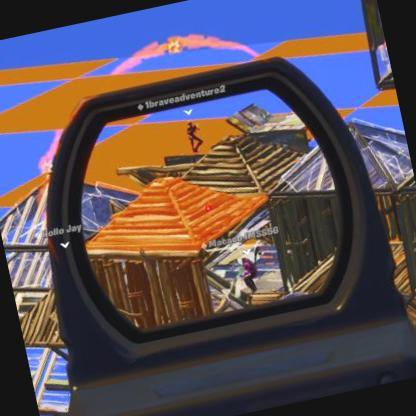person: (236, 252, 260, 290), (181, 118, 199, 150)
